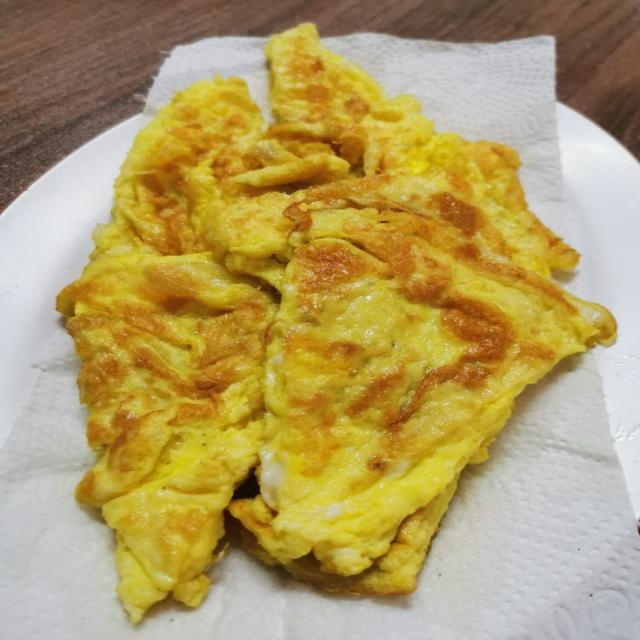omelette: (59, 25, 614, 621), (58, 253, 273, 621)
